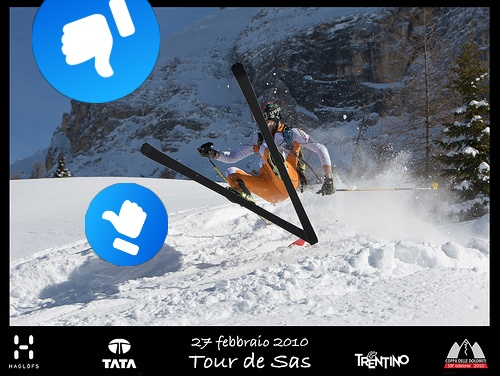like: (32, 0, 160, 103), (85, 183, 168, 266)
